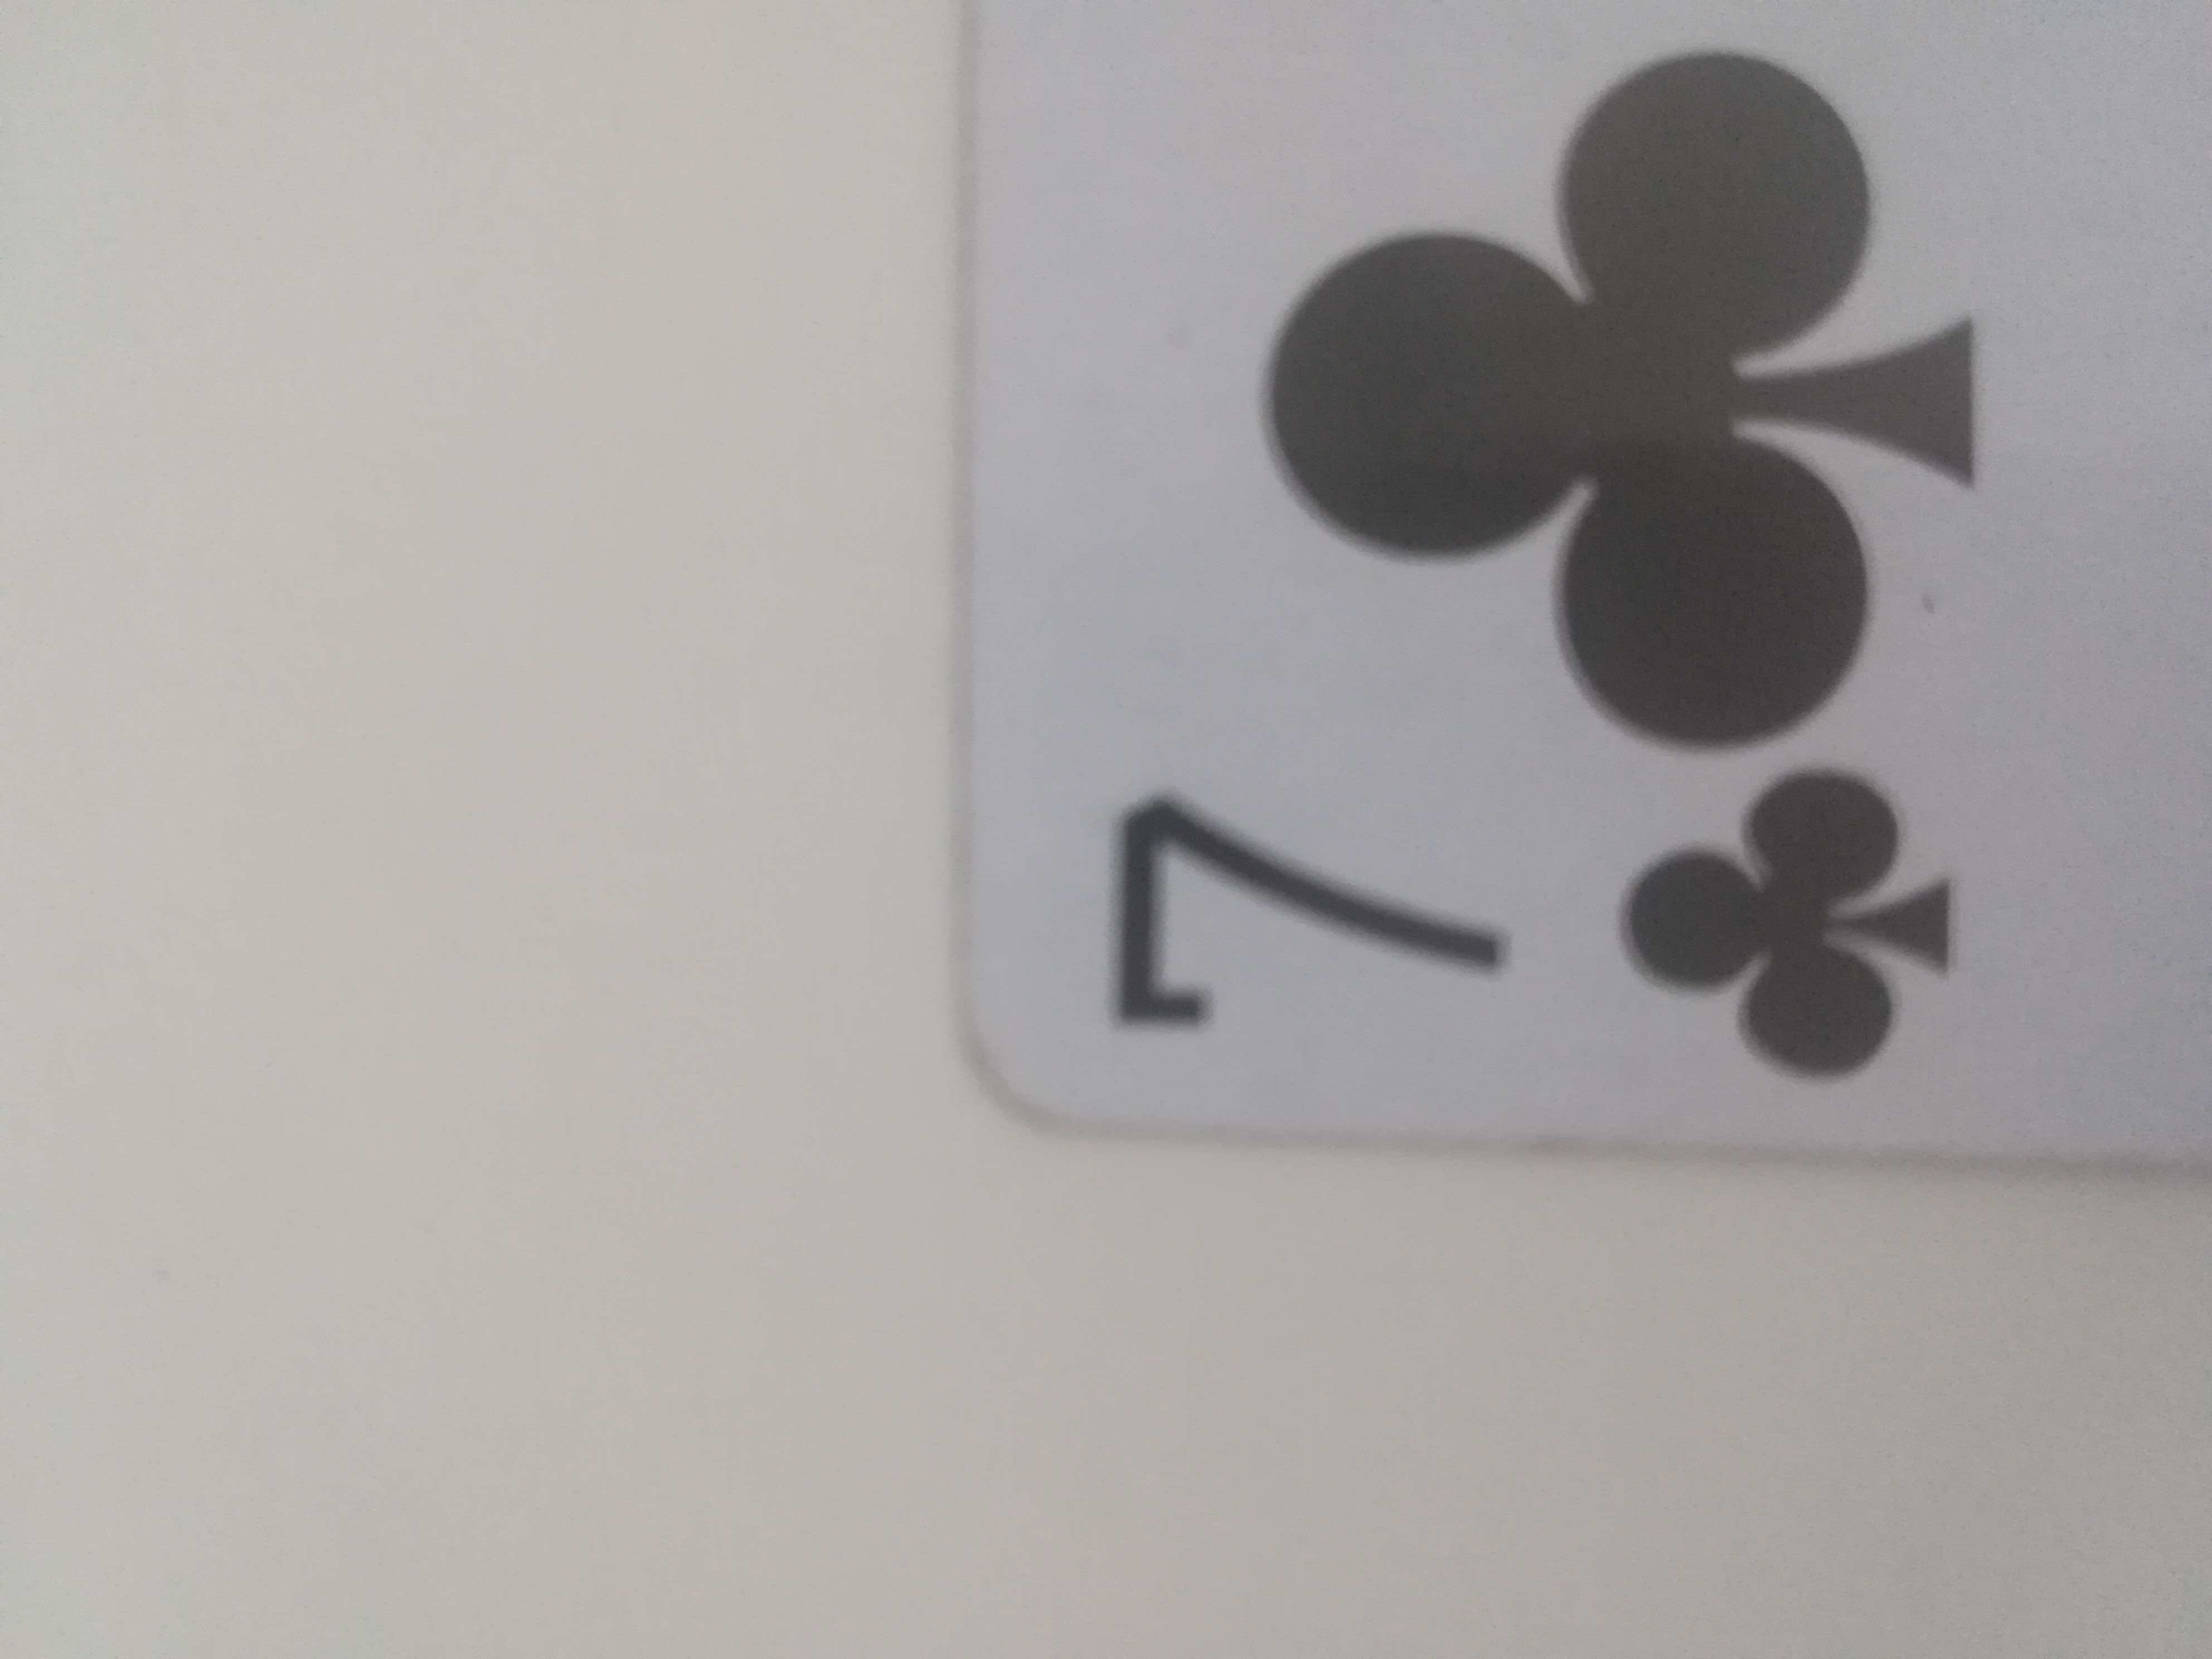7C: (937, 0, 2209, 1182)
